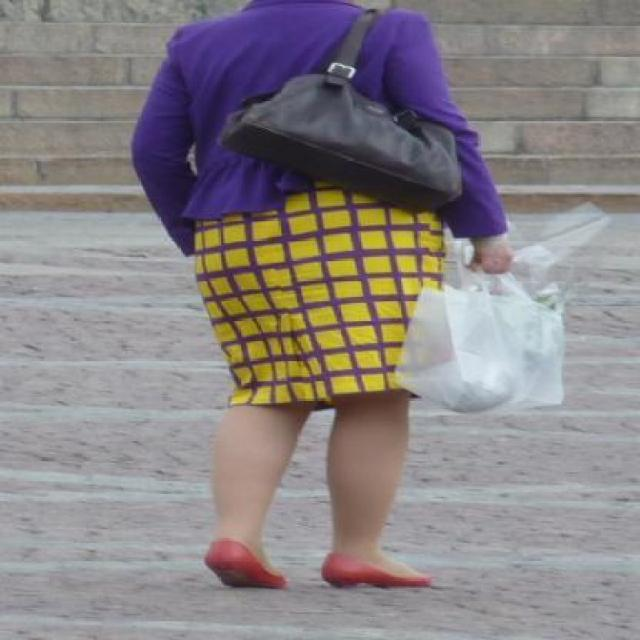plastic bag: (406, 256, 565, 427)
